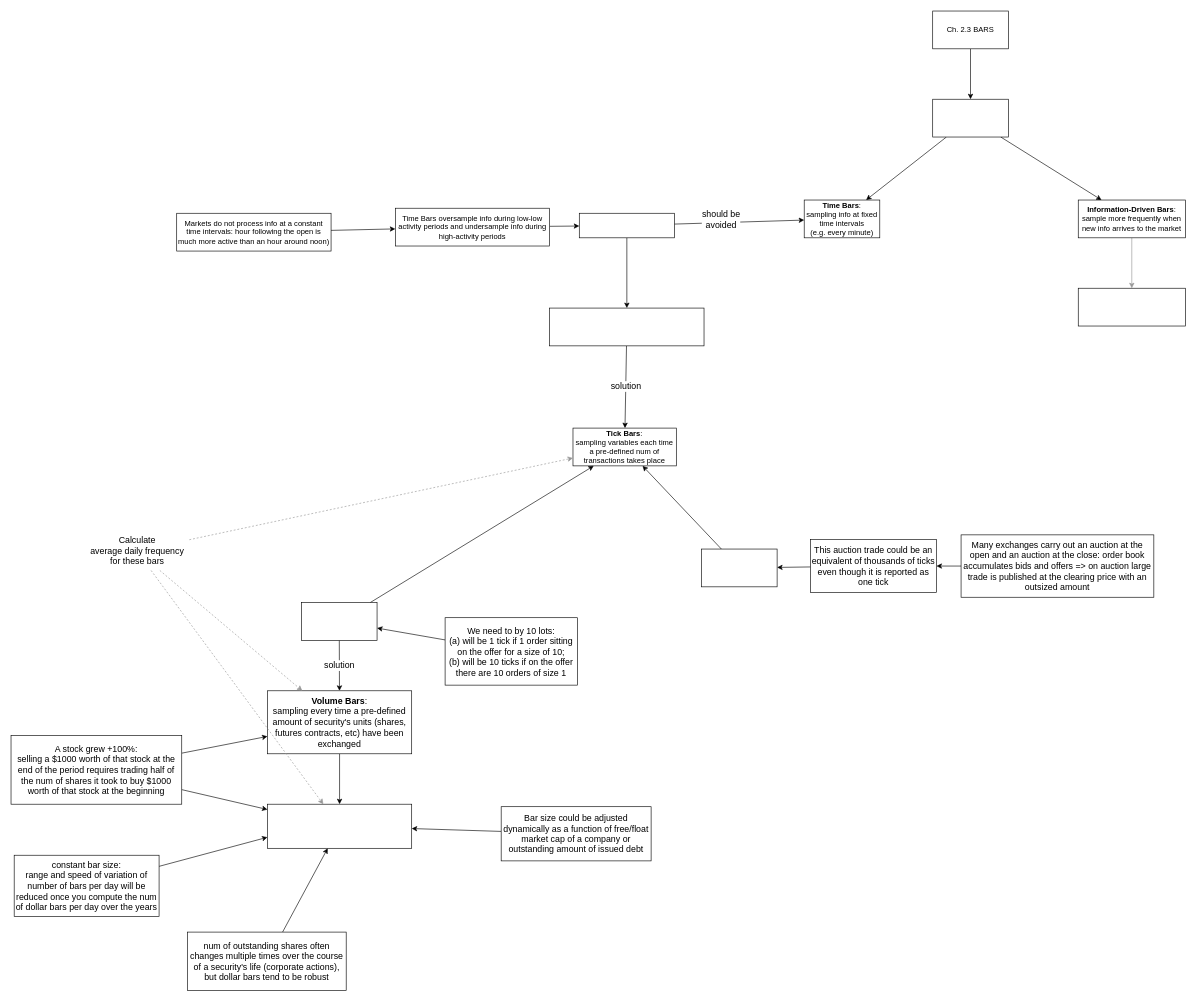
Image size: 1196x1002. Some labels were removed from this diagram. The centre of each missing label's shape, as x and y in pixels:
"Arbitrariness" goes at [339,621].
"Dollar Bars : sampling every time a pre-defined market value have been exchanged" goes at [339,826].
"Outliers" goes at [739,567].
"Poor Statistical Quality" goes at [626,225].
"serial correlation. heteroscedasticity, non-normality of returns" goes at [626,326].
"Standard Bars" goes at [970,118].
"Tick Imbalance Bars : ..." goes at [1131,307].
